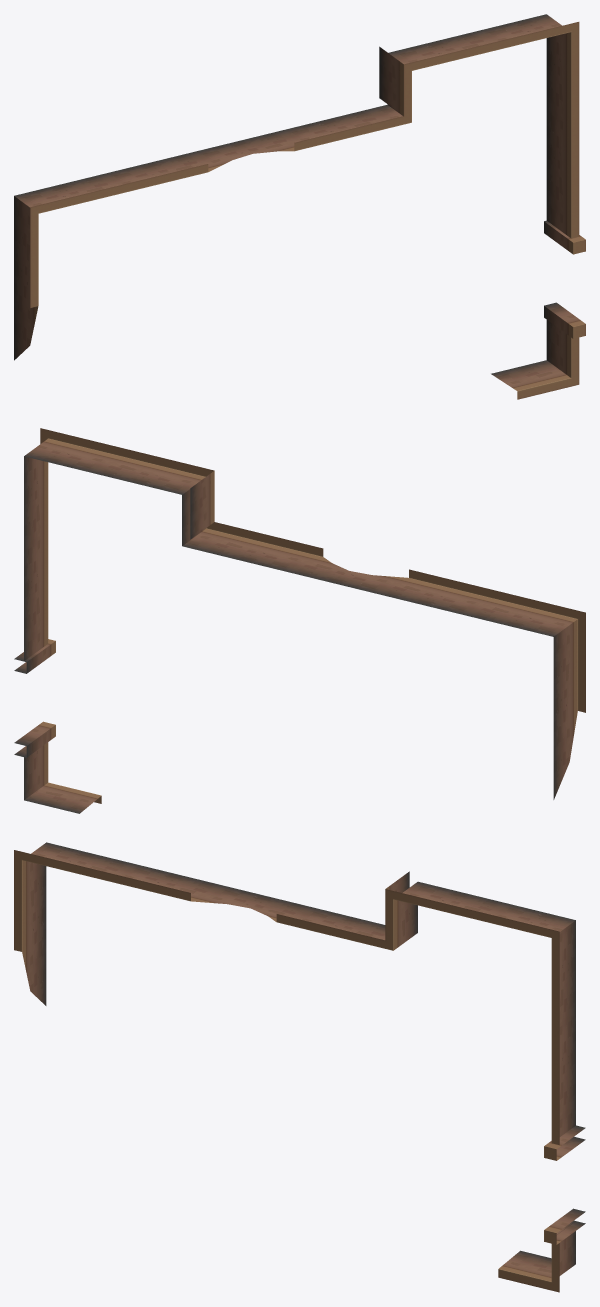
Rendered from wall_02_0_73e89061__ZombiesII_depot_diffuse_06_ddf3d44e_c1f257.obj.
The picture shows the model from 3 angles, top to bottom: view 1: azimuth 30°, elevation 25°; view 2: azimuth 150°, elevation 25°; view 3: azimuth 330°, elevation 25°; orthographic projection.
Bounding box in the file's own units: 65.48 × 41.25 × 6.05.
Materials: 1 (1 with a texture image).
